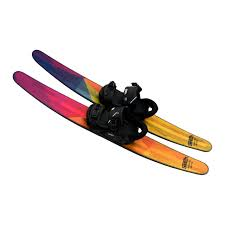skis: (12, 50, 212, 176)
